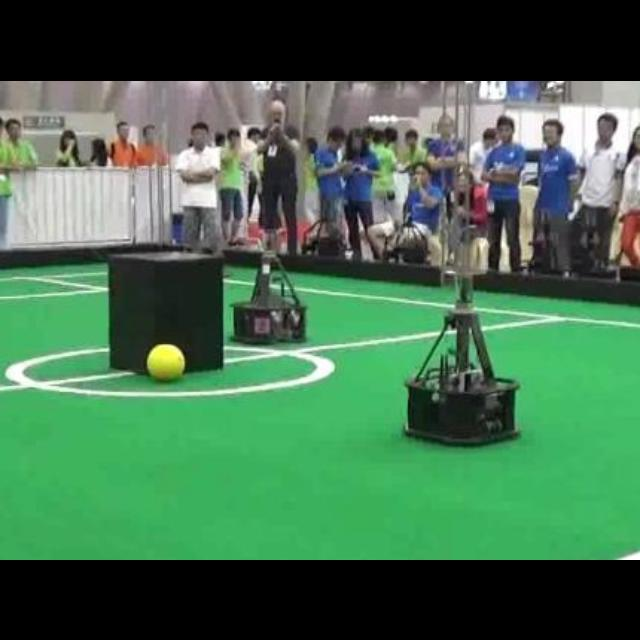ball: (146, 343, 183, 379)
robot: (406, 275, 518, 442), (232, 228, 306, 342)
